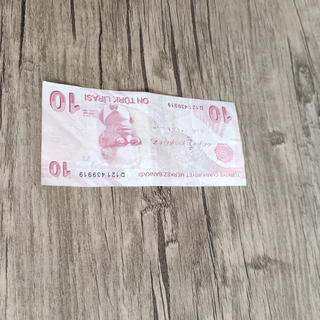10TLBack: (39, 79, 247, 188)
